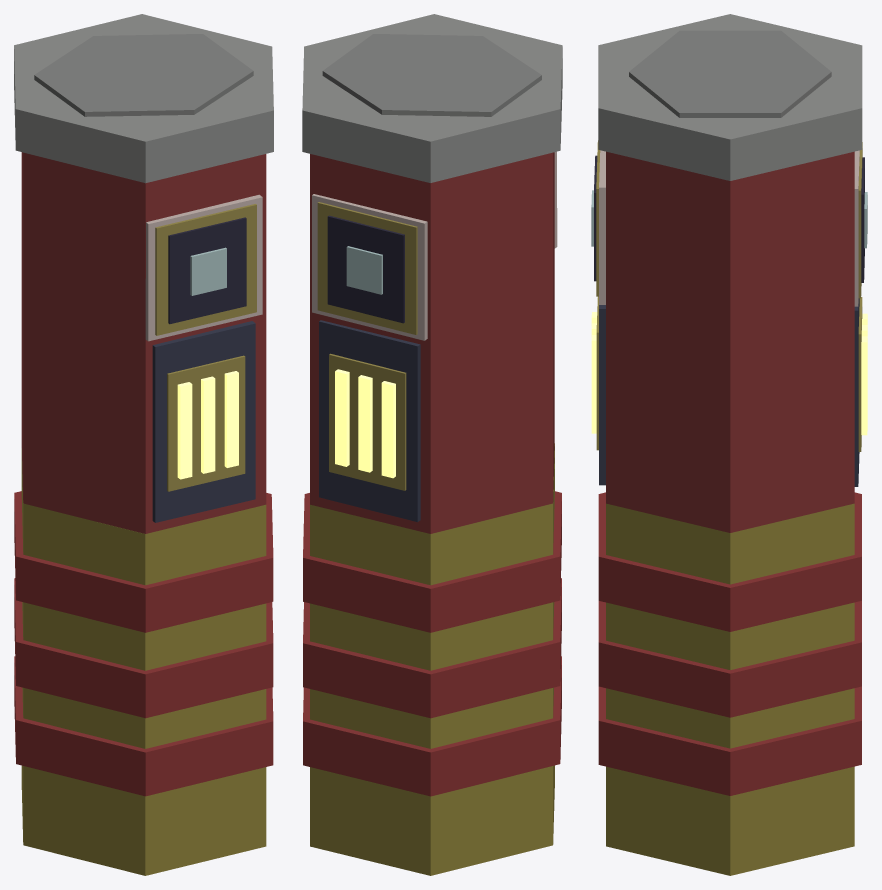
3 renders of one model, left to right at view 1: azimuth 30°, elevation 25°; view 2: azimuth 150°, elevation 25°; view 3: azimuth 270°, elevation 25°, orthographic.
Parts seen in each view (by area): view 1: Mega-Super Potent Energy; view 2: Mega-Super Potent Energy; view 3: Mega-Super Potent Energy.
Boxes of the visible parts, x1,y1,x2,y2 form: Mega-Super Potent Energy: (14,14,273,875); Mega-Super Potent Energy: (302,14,562,875); Mega-Super Potent Energy: (591,14,867,875).
Size of the model in its own units: 110 by 304 by 102.
